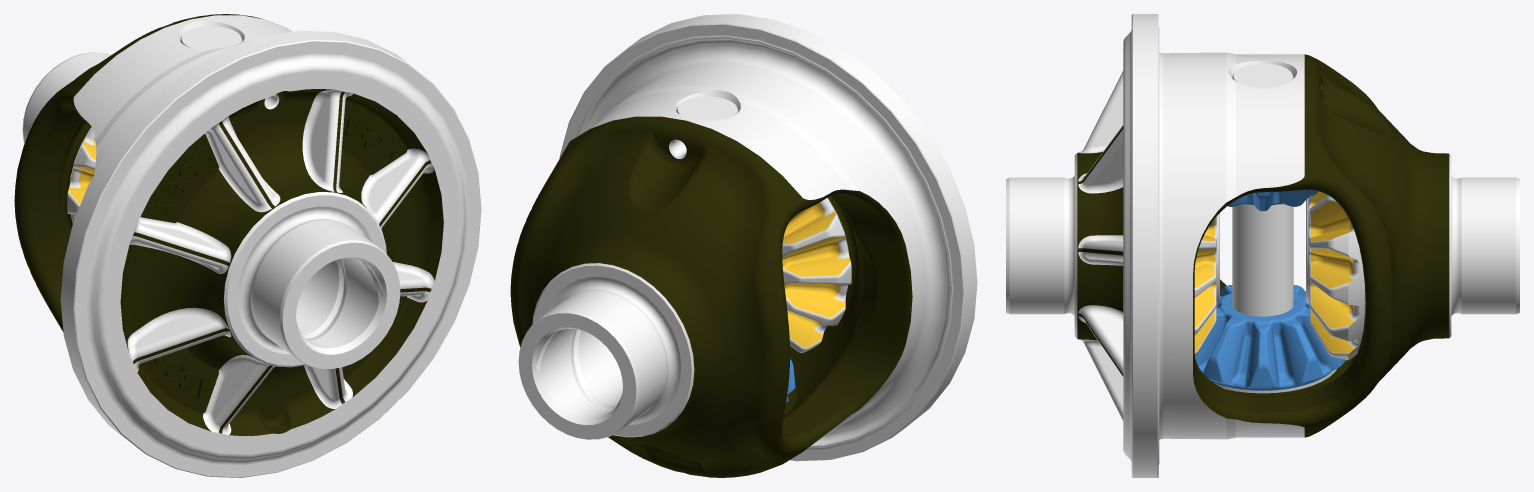
The picture shows the model from 3 angles, left to right: view 1: azimuth 30°, elevation 25°; view 2: azimuth 150°, elevation 25°; view 3: azimuth 270°, elevation 25°; orthographic projection.
Visible parts, largest first — view 1: 85_SIZE_ASM; view 2: 85_SIZE_ASM; view 3: 85_SIZE_ASM.
Part boxes in pixels (x1=…): 85_SIZE_ASM: x1=14, y1=14, x2=481, y2=477; 85_SIZE_ASM: x1=510, y1=14, x2=977, y2=477; 85_SIZE_ASM: x1=1006, y1=14, x2=1519, y2=477.
Size of the model in its own units: 1.36 by 1.36 by 1.5.
